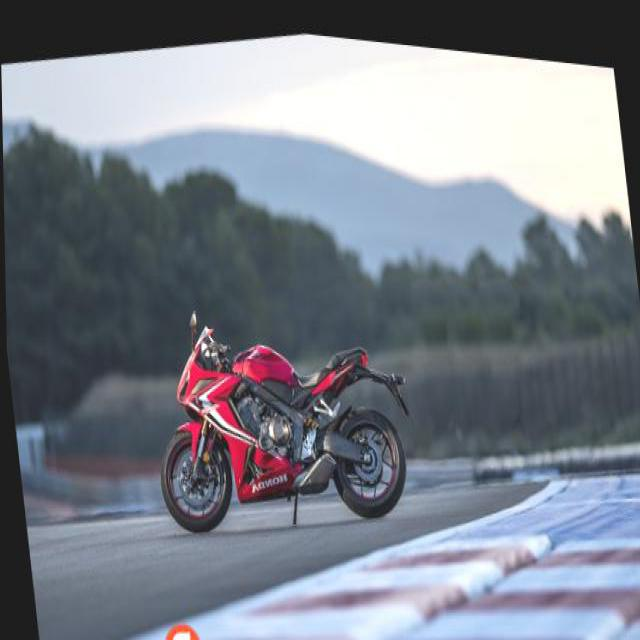CBR650R: (139, 271, 417, 558)
